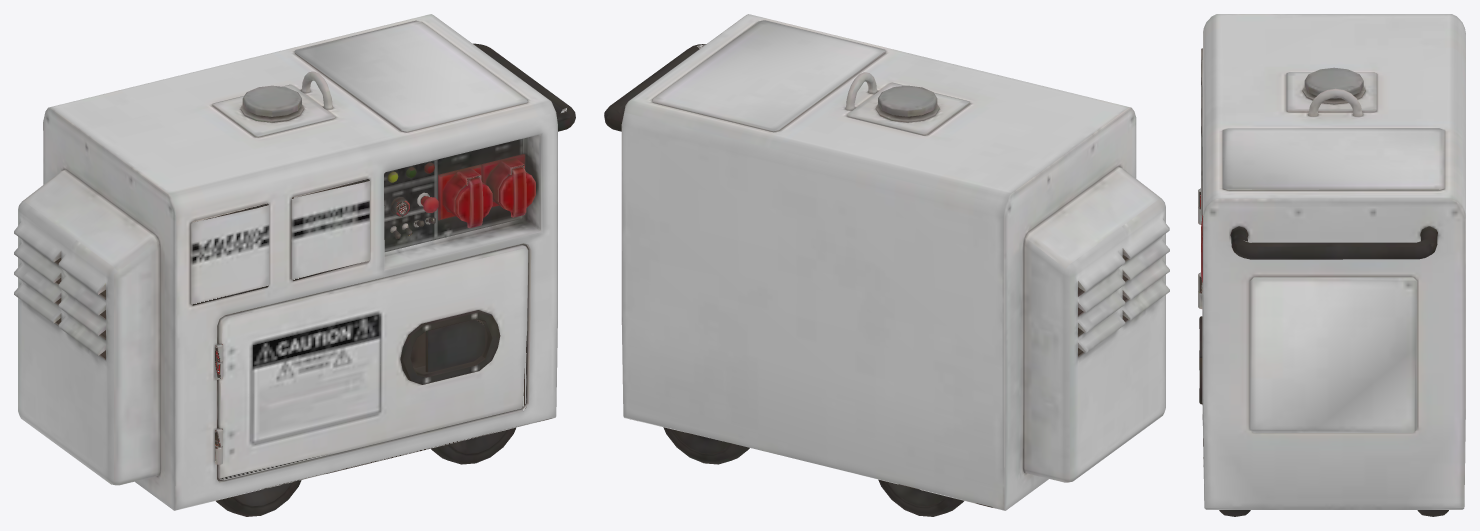
The model's file is diesel_generator.glb.
3 views of the same model, side by side, from view 1: azimuth 30°, elevation 25°; view 2: azimuth 150°, elevation 25°; view 3: azimuth 270°, elevation 25° (orthographic).
Parts seen in each view (by area): view 1: polySurface52; view 2: polySurface52; view 3: polySurface52.
Boxes of the visible parts, x1,y1,x2,y2 form: polySurface52: [14, 14, 575, 516]; polySurface52: [604, 14, 1169, 516]; polySurface52: [1198, 14, 1465, 516].
Size of the model in its own units: 1.41 by 1.06 by 0.6889.
Materials: 1 (1 with a texture image).
